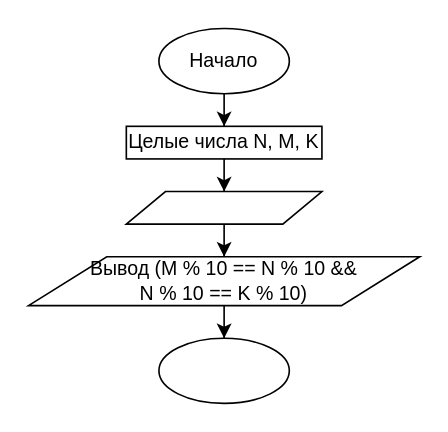
Image size: 448x432. Some labels were removed from this diagram. Here are the shapes that lost their labels. From the top down, the centre of each, then its label:
(x=223, y=207): Ввод N, M, K
(x=223, y=370): Конец
